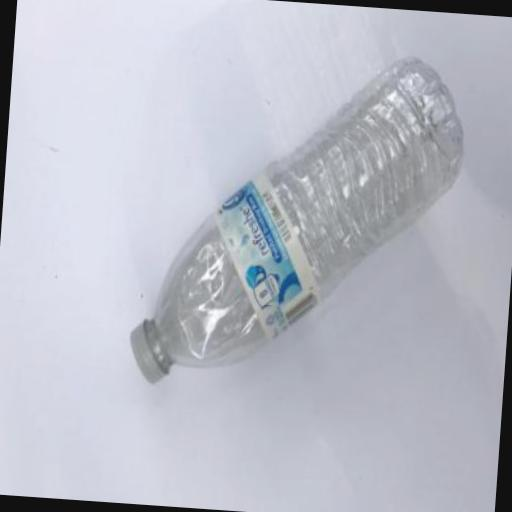plastic: (125, 36, 470, 406), (203, 167, 330, 346), (125, 318, 176, 386)
